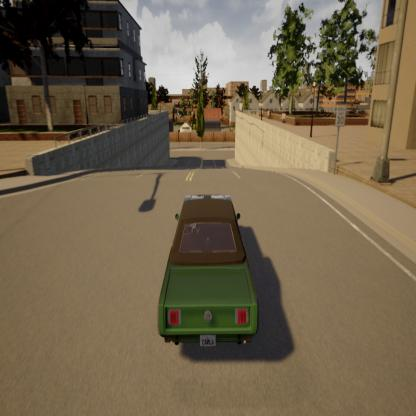Cars: (147, 190, 266, 362)
